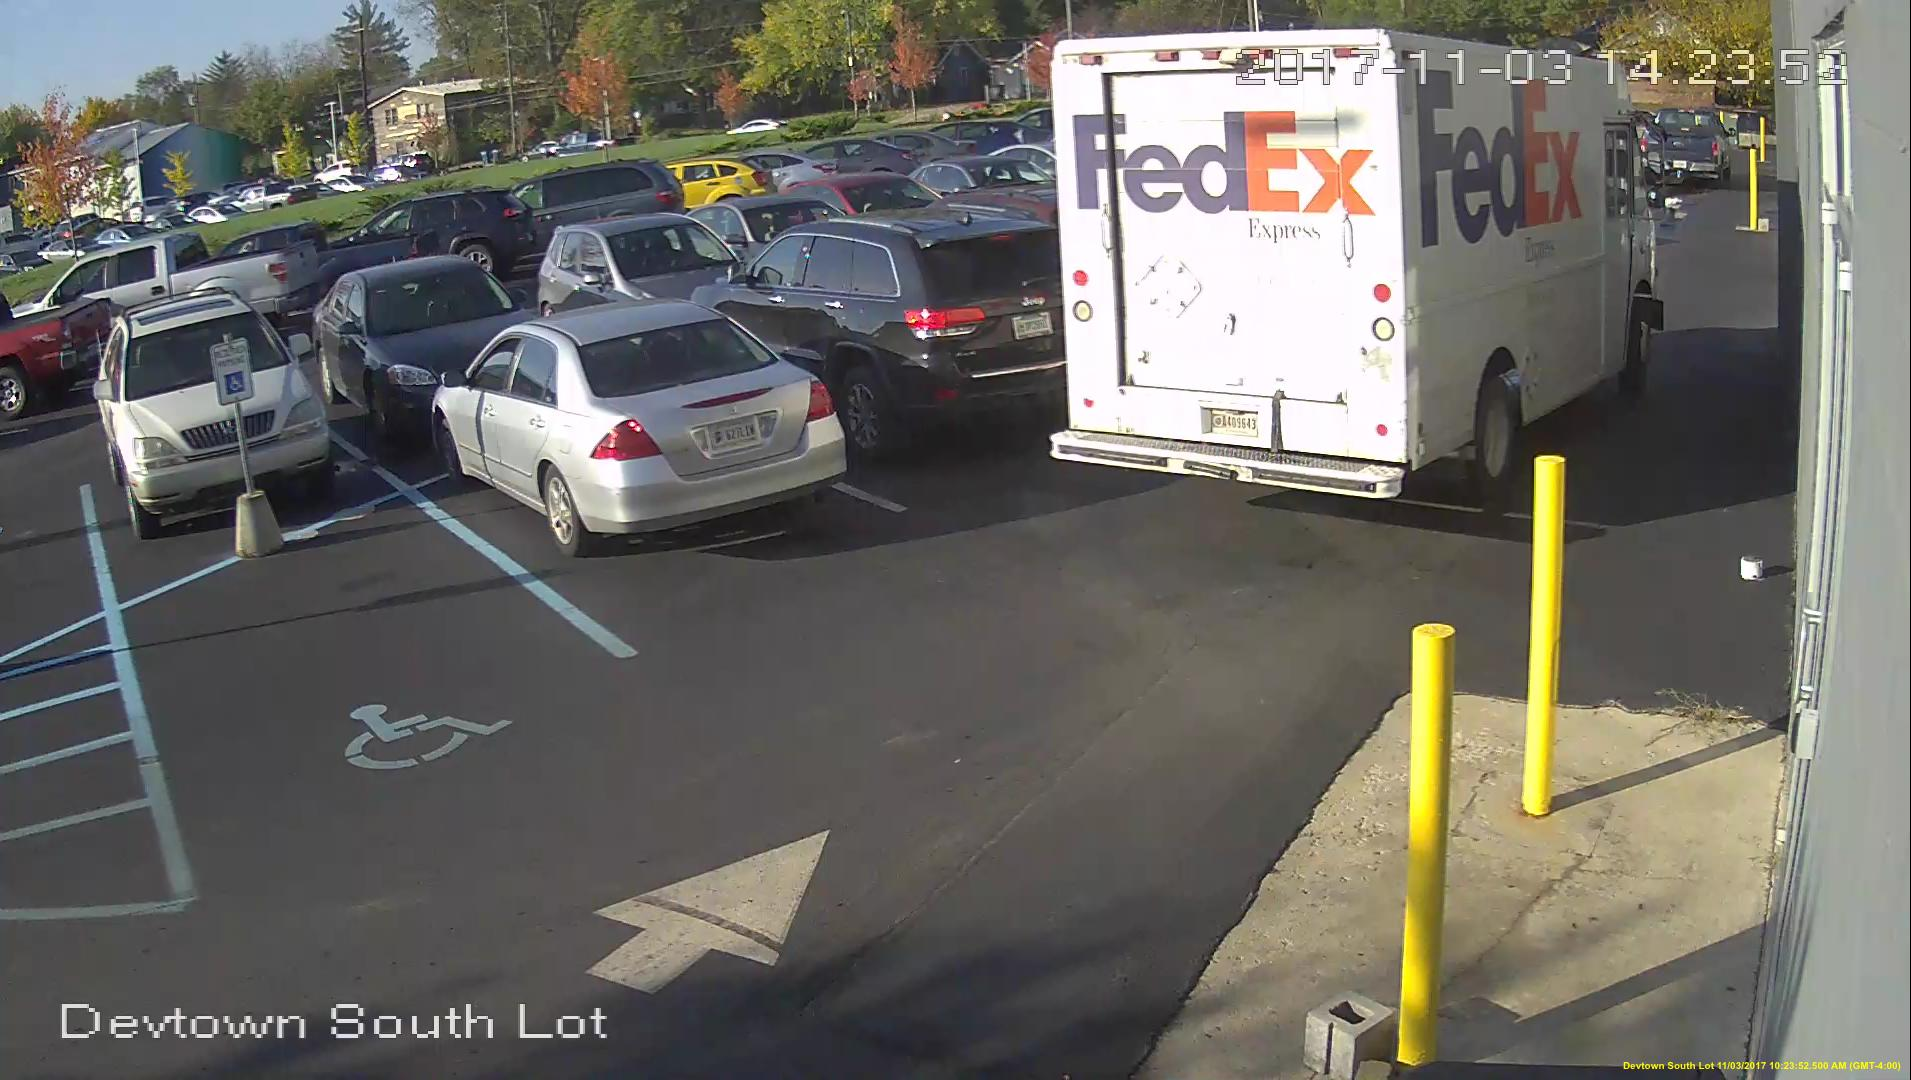fedex_truck: (1034, 22, 1679, 503)
